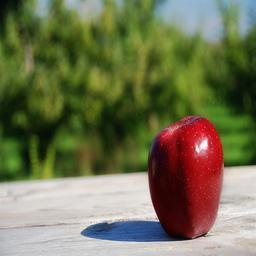apple: (148, 117, 226, 242)
